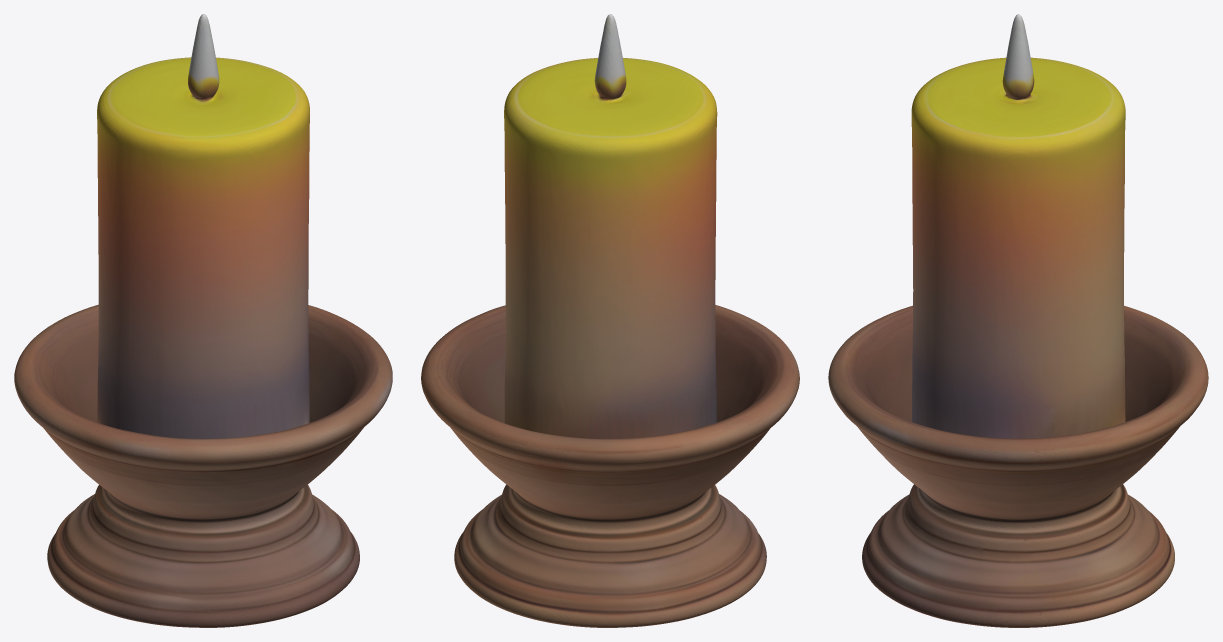
The model's file is candle-06.glb.
3 views of the same model, side by side, from view 1: azimuth 30°, elevation 25°; view 2: azimuth 150°, elevation 25°; view 3: azimuth 270°, elevation 25° (orthographic).
Parts seen in each view (by area): view 1: tripo_node_25d2fe7a-53b9-4a7f-bc8b-1ea766053352; view 2: tripo_node_25d2fe7a-53b9-4a7f-bc8b-1ea766053352; view 3: tripo_node_25d2fe7a-53b9-4a7f-bc8b-1ea766053352.
Part boxes in pixels (x1,y1,x2,y2): tripo_node_25d2fe7a-53b9-4a7f-bc8b-1ea766053352: (14,14,392,627); tripo_node_25d2fe7a-53b9-4a7f-bc8b-1ea766053352: (421,14,799,627); tripo_node_25d2fe7a-53b9-4a7f-bc8b-1ea766053352: (828,14,1208,627).
Bounding box in the file's own units: 0.583 × 0.9459 × 0.584.
1 material, 1 textured.
